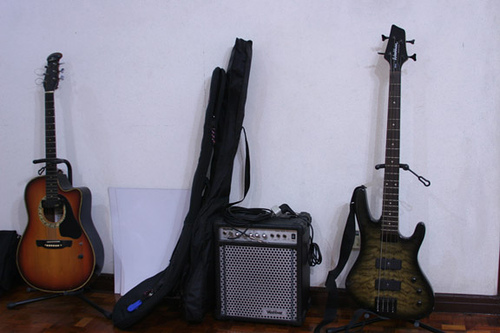guitar: (14, 50, 106, 297)
